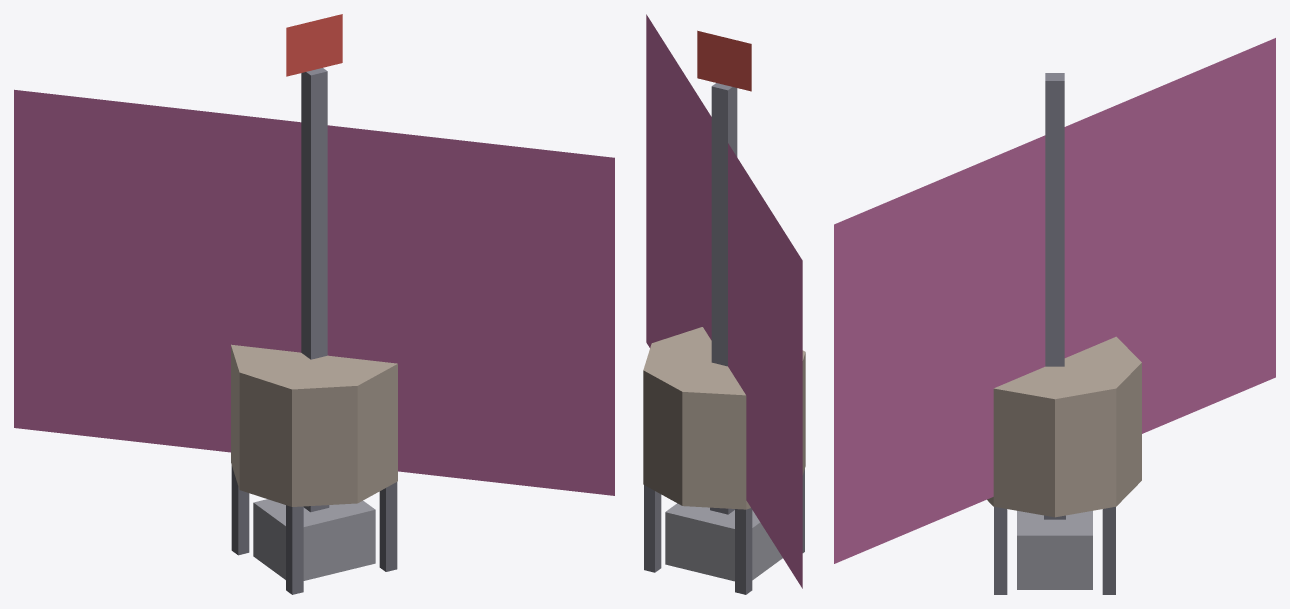
The model's file is roof_props.glb.
3 renders of one model, left to right at view 1: azimuth 30°, elevation 25°; view 2: azimuth 150°, elevation 25°; view 3: azimuth 270°, elevation 25°, orthographic. The views are drawn at different scales.
Parts seen in each view (by area): view 1: billboard_0, tank, antenna, ac; view 2: billboard_0, tank, antenna, ac; view 3: billboard_0, tank, antenna, ac.
Part boxes in pixels (<box>): billboard_0: <box>14,89,614,512</box>; tank: <box>231,344,397,594</box>; antenna: <box>286,14,342,359</box>; ac: <box>253,499,375,580</box>; billboard_0: <box>646,14,802,588</box>; tank: <box>643,327,805,594</box>; antenna: <box>697,30,751,366</box>; ac: <box>665,503,782,581</box>; billboard_0: <box>834,38,1275,563</box>; tank: <box>987,336,1141,594</box>; antenna: <box>1045,73,1064,366</box>; ac: <box>1017,511,1092,589</box>.
Size of the model in its own units: 4.07 by 5.5 by 4.07.
